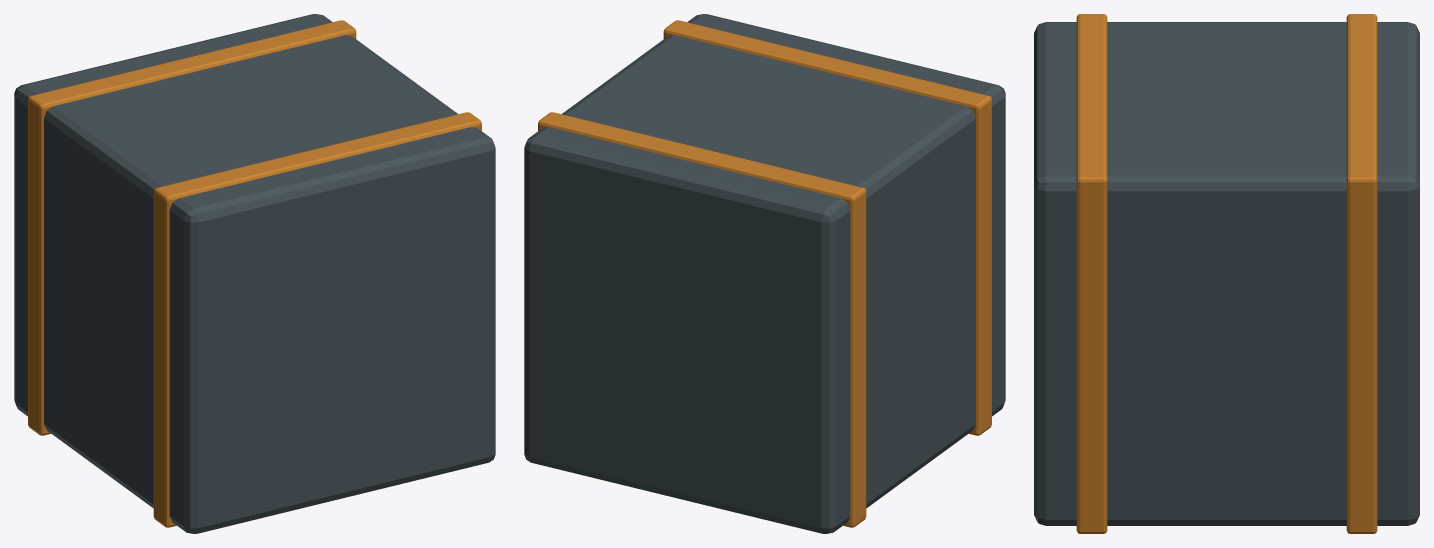
The model's file is prop_crate.glb.
3 views of the same model, side by side, from view 1: azimuth 30°, elevation 25°; view 2: azimuth 150°, elevation 25°; view 3: azimuth 270°, elevation 25° (orthographic). The views are drawn at different scales.
Parts seen in each view (by area): view 1: box, brace_-1, brace_1; view 2: box, brace_1, brace_-1; view 3: box, brace_-1, brace_1.
Part boxes in pixels (bbox=[...]): box: bbox=[14, 14, 495, 533]; brace_-1: bbox=[153, 112, 481, 527]; brace_1: bbox=[28, 20, 356, 435]; box: bbox=[524, 14, 1005, 533]; brace_1: bbox=[538, 112, 866, 527]; brace_-1: bbox=[663, 20, 991, 435]; box: bbox=[1034, 22, 1419, 525]; brace_-1: bbox=[1076, 14, 1107, 533]; brace_1: bbox=[1346, 14, 1377, 533].
Size of the model in its own units: 1.02 by 1.02 by 1.
